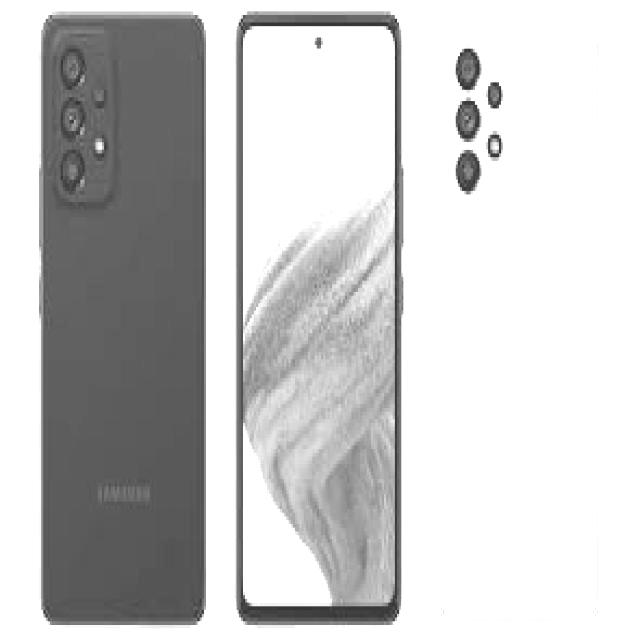fake: (33, 2, 209, 628)
